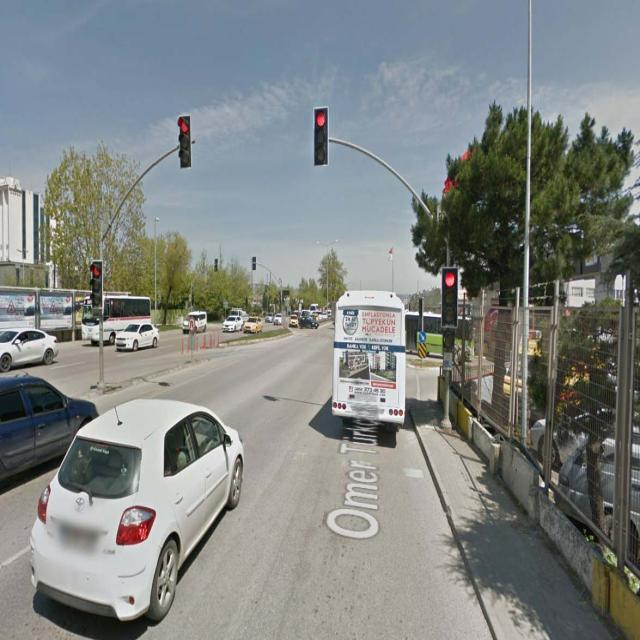kirmizi: (314, 106, 329, 168), (442, 268, 458, 324), (178, 117, 192, 169), (91, 261, 102, 305)
